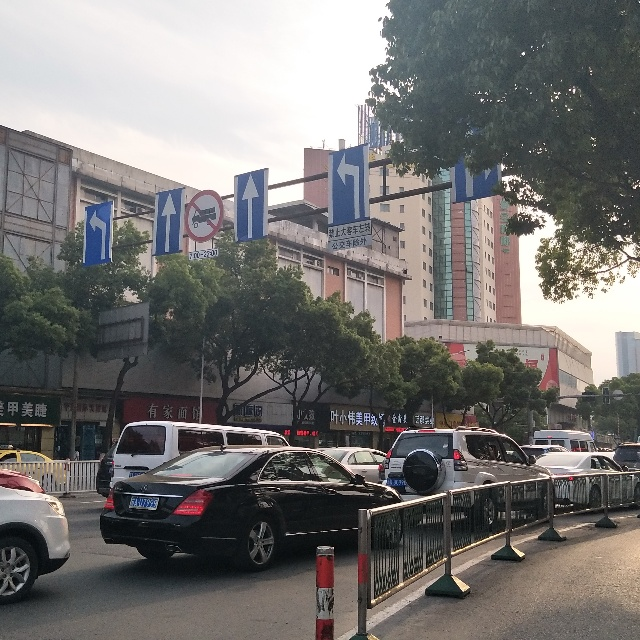left: (326, 144, 372, 224), (83, 201, 112, 266)
straight: (233, 168, 269, 242), (153, 188, 185, 256)
